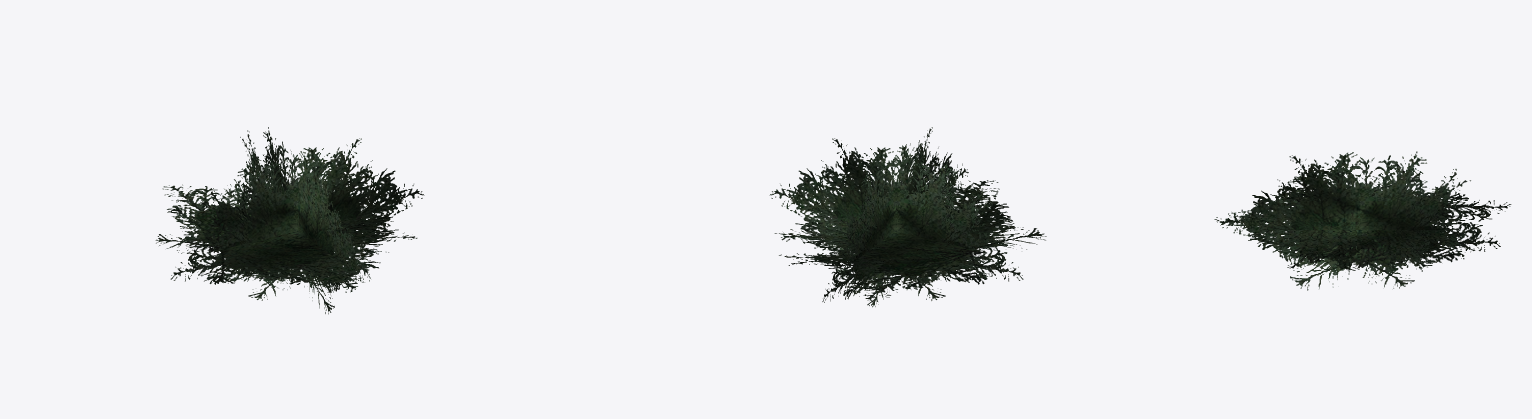
The model's file is shrb_pinebush_sm_l1.fbx.
3 renders of one model, left to right at view 1: azimuth 30°, elevation 25°; view 2: azimuth 150°, elevation 25°; view 3: azimuth 270°, elevation 25°, orthographic. The views are drawn at different scales.
Visible parts, largest first — view 1: mesh_node; view 2: mesh_node; view 3: mesh_node.
Boxes of the visible parts, left/top/right/bottom form: mesh_node: left=155, top=127, right=424, bottom=314; mesh_node: left=769, top=127, right=1046, bottom=307; mesh_node: left=1214, top=151, right=1511, bottom=290.
Bounding box in the file's own units: 2.65 × 1.74 × 1.85.
1 material, 1 textured.
